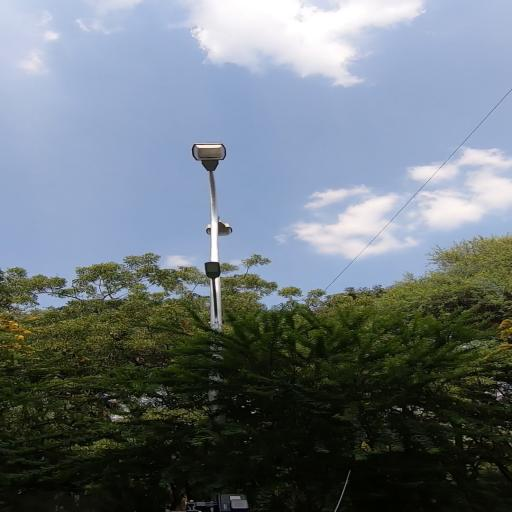Street_light: (187, 141, 232, 188), (200, 256, 232, 304)
